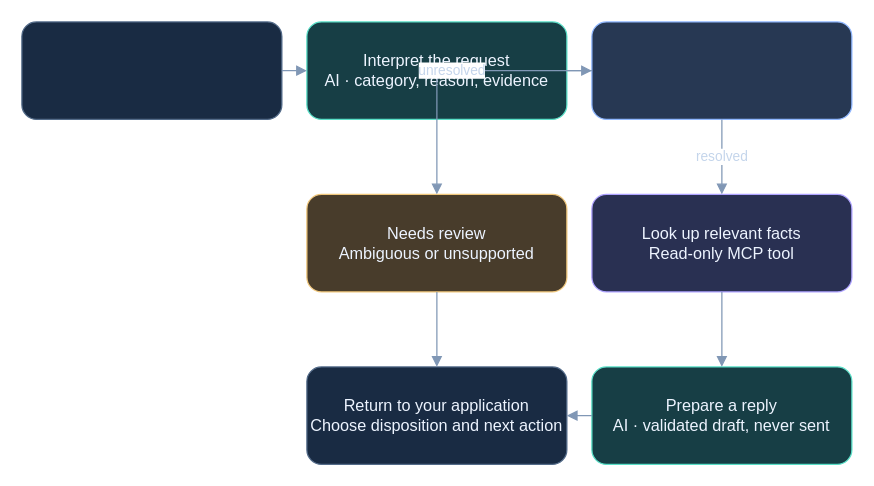
Image size: 874x486. Some labels were removed from this diagram. Here are the shapes that lost their labels. From the top down, the centre of each, then its label:
the point at 151,70: Incoming email Your application supplies input
the point at 721,70: Apply your rules Deterministic routing
